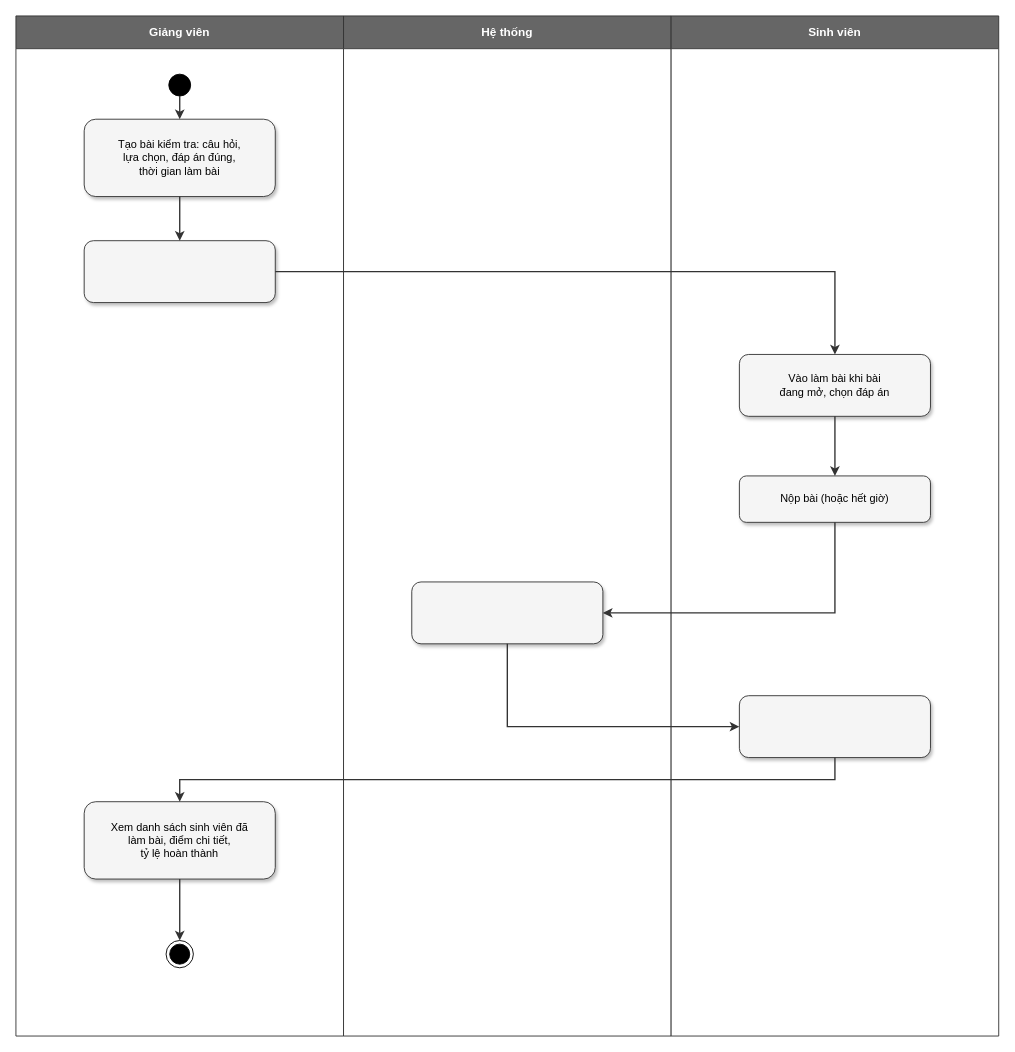
This 1015x1052 diagram has some shape labels left out. The shapes that lost their labels are listed below. From the top down, each one's centre as x and y in pixels, then its label:
At point 180,272: "Mở bài kiểm tra (trạng thái mở)".
At point 507,613: "Chấm điểm tự động: (số câu đúng ÷ tổng số câu) × 10".
At point 835,727: "Xem kết quả: điểm, đáp án đúng và sai".
